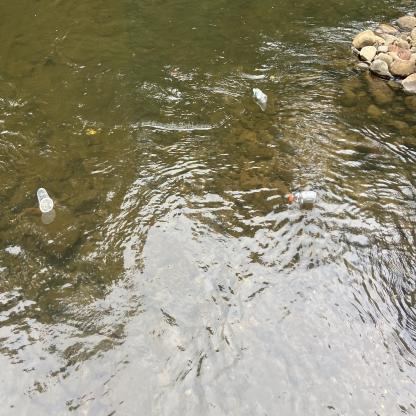trash: (36, 185, 54, 214), (250, 87, 268, 106)
